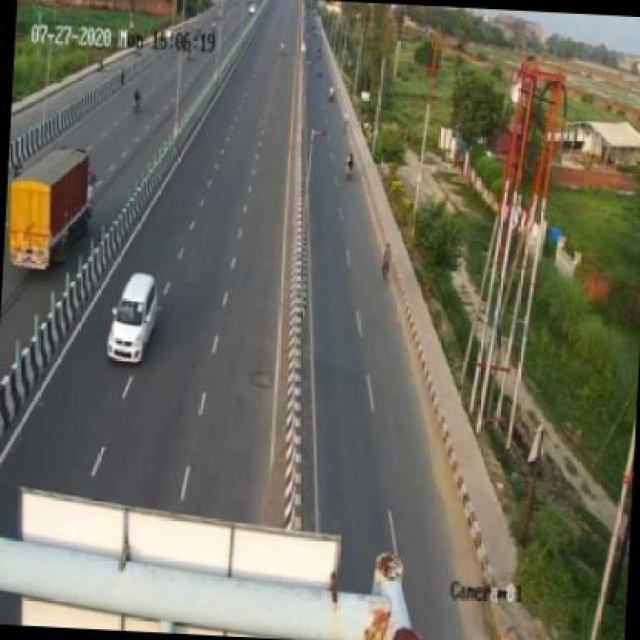car: (106, 270, 163, 364)
